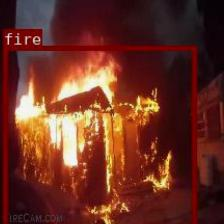fire: (1, 45, 195, 224)
